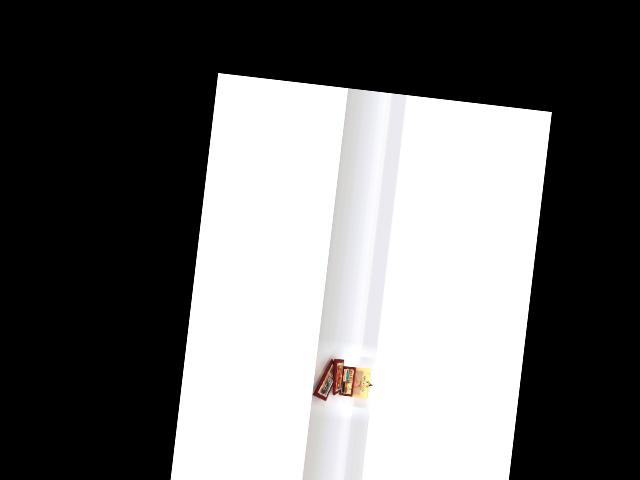chocolate: (308, 354, 338, 410)
